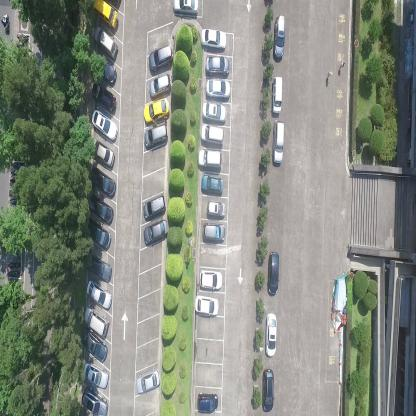car: (80, 328, 108, 362), (88, 166, 117, 198), (82, 306, 110, 339), (90, 111, 118, 142), (85, 217, 111, 250), (93, 26, 118, 60), (89, 139, 116, 170), (88, 193, 113, 226), (84, 280, 112, 309), (80, 386, 108, 415), (85, 253, 112, 283), (148, 43, 174, 74), (80, 361, 108, 389), (143, 96, 170, 125), (91, 83, 117, 113), (92, 0, 118, 29), (143, 123, 170, 150), (143, 217, 168, 246), (143, 192, 166, 222), (272, 13, 286, 62), (136, 366, 160, 394), (94, 58, 117, 87), (264, 311, 278, 357), (195, 293, 219, 319), (201, 100, 227, 124), (201, 26, 226, 50), (272, 120, 285, 166), (267, 251, 280, 297), (149, 72, 172, 98), (204, 55, 230, 77), (199, 267, 223, 290), (196, 389, 218, 414), (197, 148, 222, 170), (262, 369, 274, 413), (205, 80, 231, 100), (172, 0, 199, 19), (202, 172, 224, 195), (200, 124, 224, 145), (202, 222, 225, 243), (271, 76, 283, 114), (206, 199, 226, 219)
